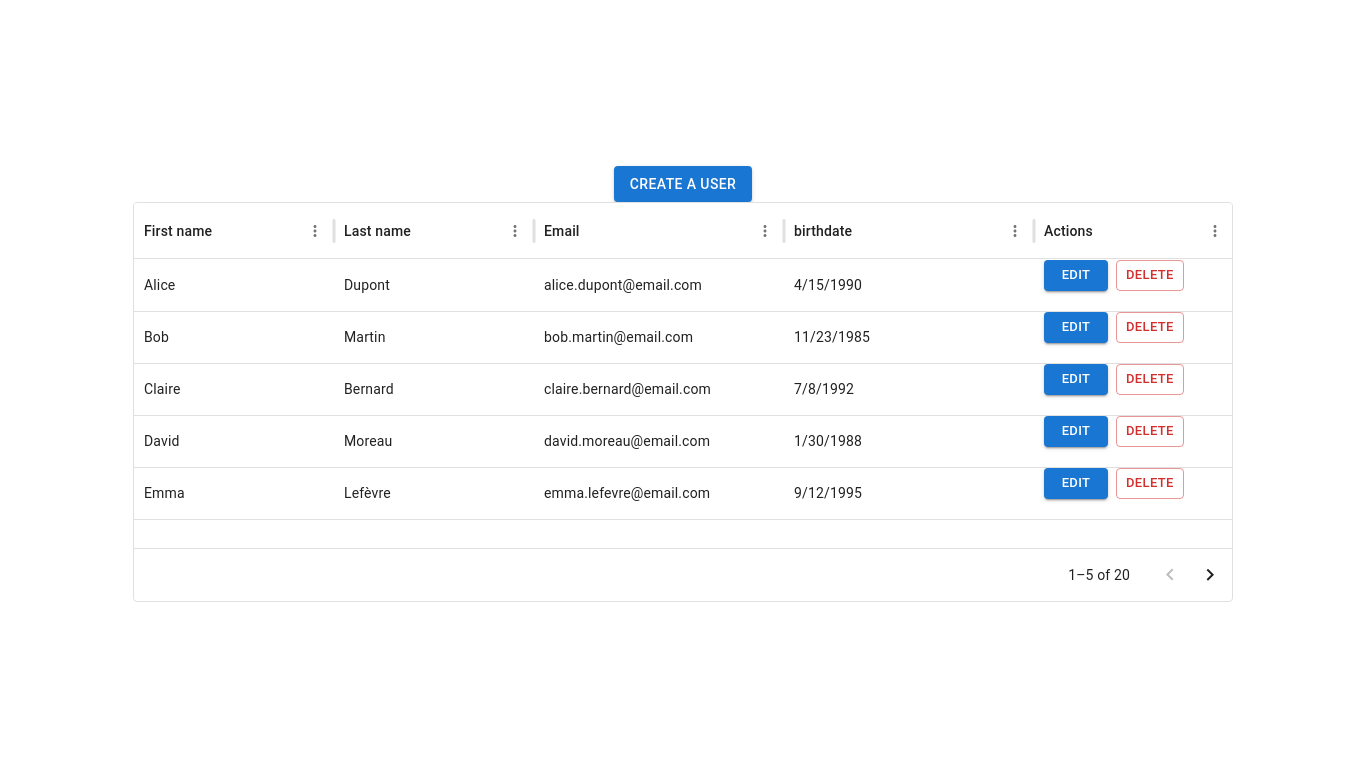
Test: user page › should open user creation modal
Click the button "Create a user": (683, 184) top-left (614, 166), bottom-right (752, 202)
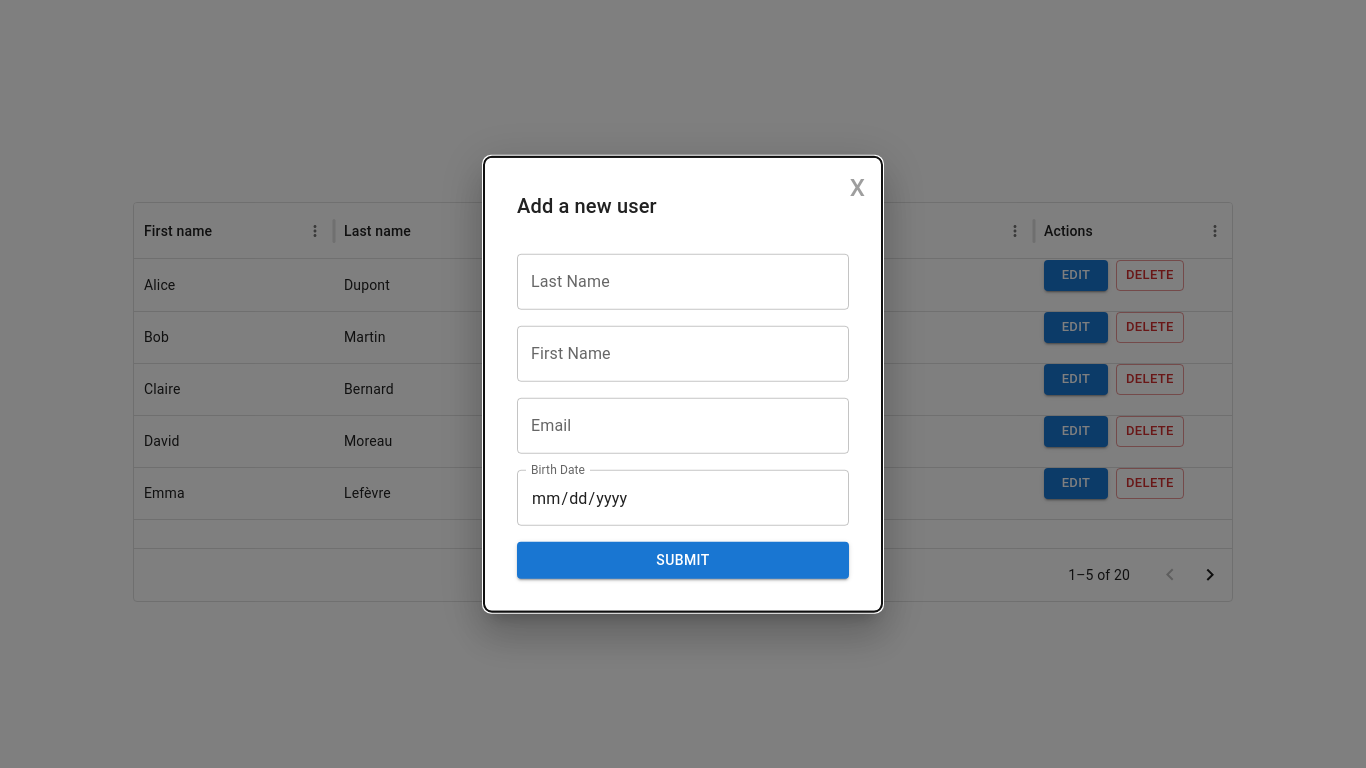
Expected: the heading "Add a new user" is shown, top-left (517, 194), bottom-right (657, 218)
